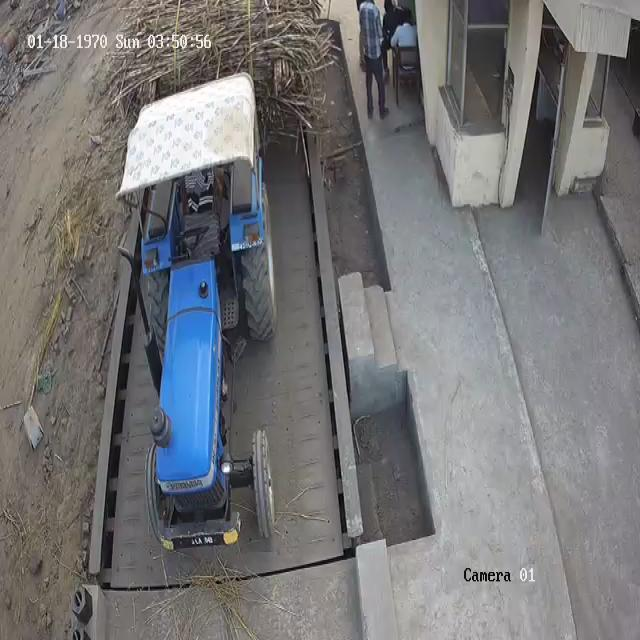Tratores - v5 YOLO V8L 2024-11-13: (126, 102, 282, 557)
